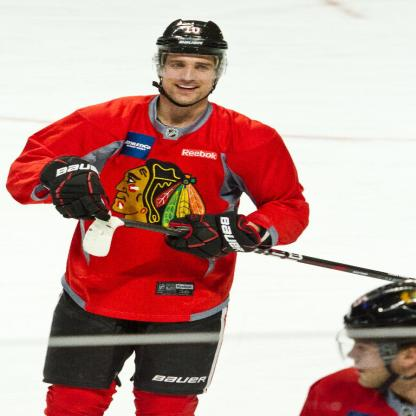Helmet: (334, 278, 416, 394), (148, 13, 228, 108)
